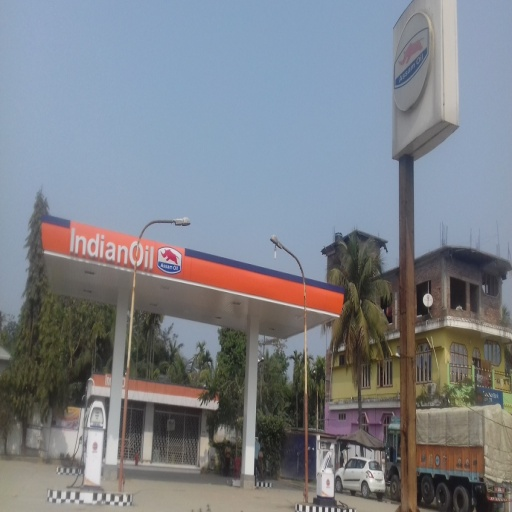roof: (40, 209, 344, 355)
